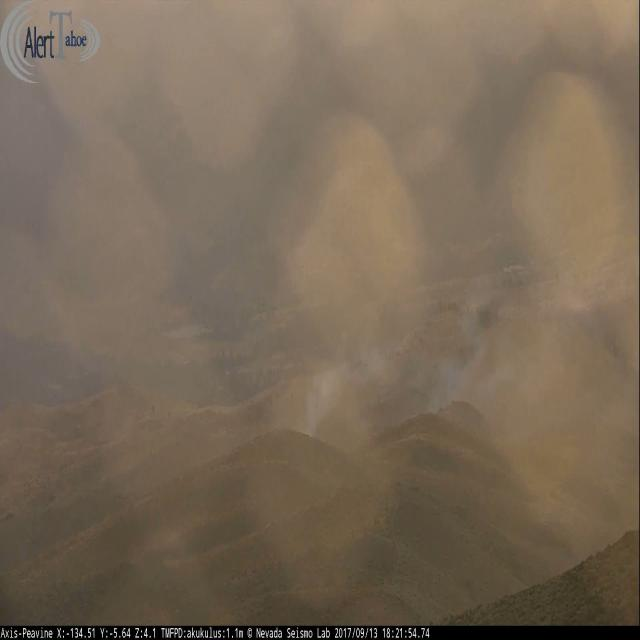smoke: (432, 310, 483, 409), (308, 355, 346, 436)
